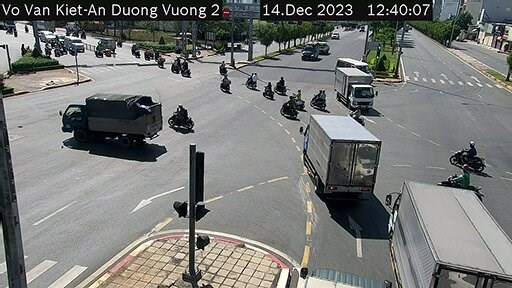car: (329, 48, 375, 81), (299, 40, 321, 64)
motorbike: (442, 165, 488, 198), (169, 101, 196, 136), (453, 141, 488, 168), (347, 104, 368, 130), (308, 87, 333, 108), (281, 94, 298, 118), (216, 72, 234, 93), (260, 81, 280, 99), (276, 77, 292, 96), (180, 59, 195, 79), (168, 55, 181, 76), (245, 72, 259, 91), (155, 53, 169, 72), (215, 57, 231, 73), (130, 42, 144, 59)
truck: (387, 178, 512, 284), (299, 113, 378, 196), (52, 96, 165, 145), (329, 69, 374, 112)
